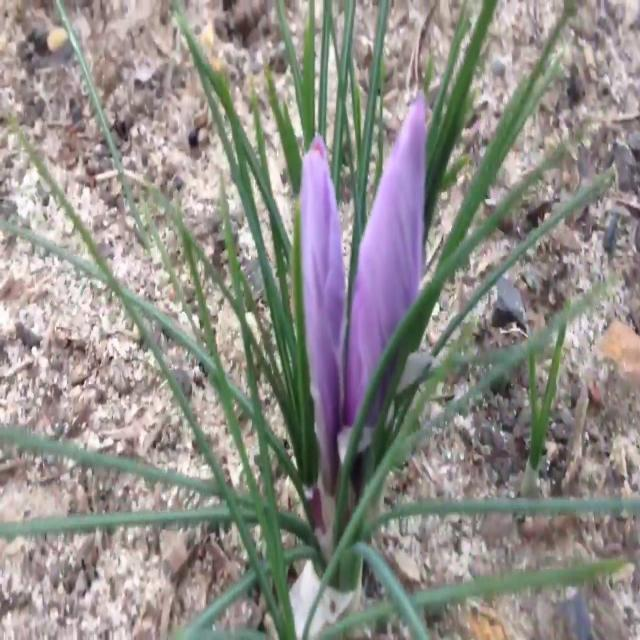Flower: (300, 92, 440, 470)
